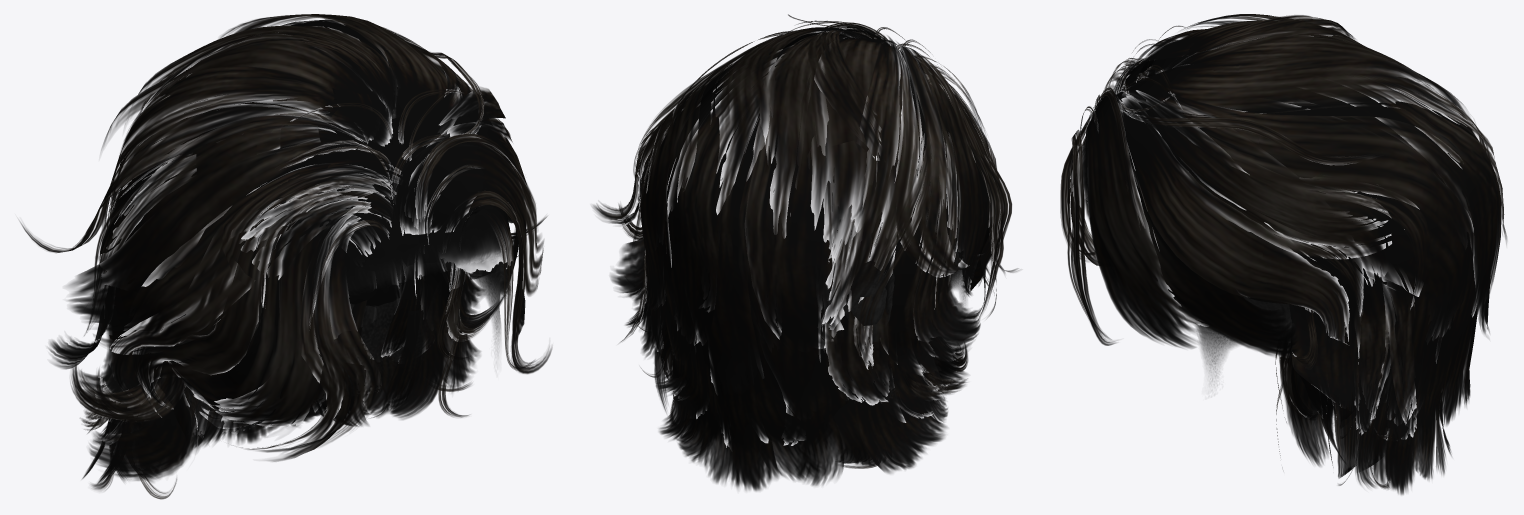
The model's file is Layered.glb.
The picture shows the model from 3 angles, left to right: view 1: azimuth 30°, elevation 25°; view 2: azimuth 150°, elevation 25°; view 3: azimuth 270°, elevation 25°; orthographic projection. The views are drawn at different scales.
Parts seen in each view (by area): view 1: LAYERED, SCALP LEBAR; view 2: LAYERED, SCALP LEBAR; view 3: LAYERED, SCALP LEBAR.
Part boxes in pixels (x1,y1,x2,y2): LAYERED: (19,14,552,499); SCALP LEBAR: (111,103,513,433); LAYERED: (592,14,1018,491); SCALP LEBAR: (665,225,967,341); LAYERED: (1060,14,1506,494); SCALP LEBAR: (1078,100,1334,423).
Bounding box in the file's own units: 0.3018 × 0.29 × 0.2677.
Materials: 2 (2 with a texture image).
